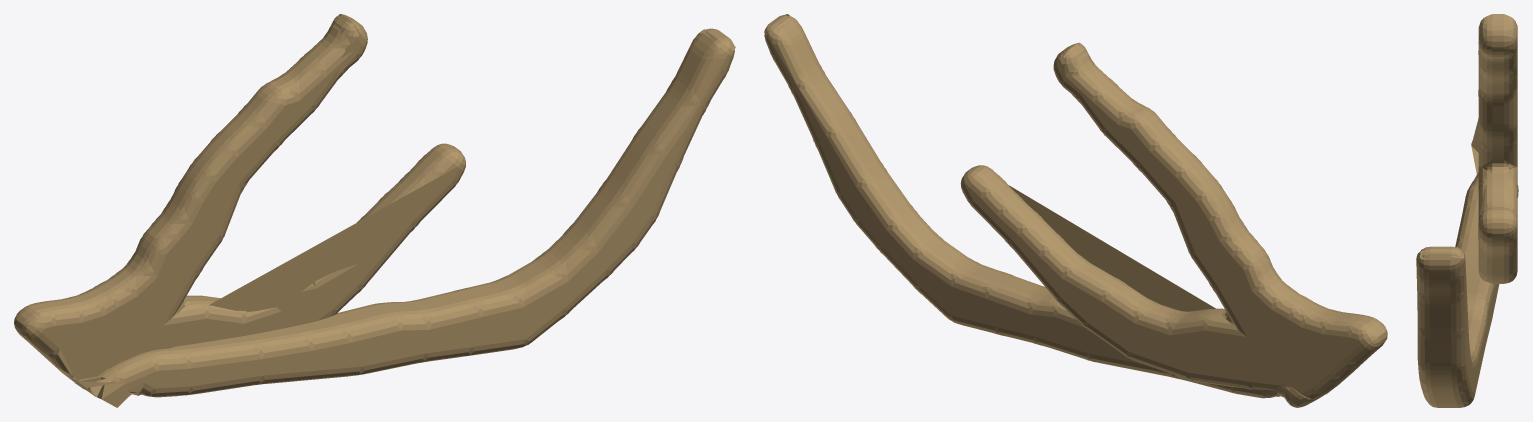
File: deer_corner.fbx
3 renders of one model, left to right at view 1: azimuth 30°, elevation 25°; view 2: azimuth 150°, elevation 25°; view 3: azimuth 270°, elevation 25°, orthographic. The views are drawn at different scales.
Visible parts, largest first — view 1: Plane.007; view 2: Plane.007; view 3: Plane.007.
Boxes of the visible parts, x1,y1,x2,y2 form: Plane.007: (14, 14, 735, 407); Plane.007: (764, 14, 1387, 407); Plane.007: (1416, 14, 1518, 407).
Bounding box in the file's own units: 99.43 × 47.97 × 13.62.
Materials: 1 (1 with a texture image).
